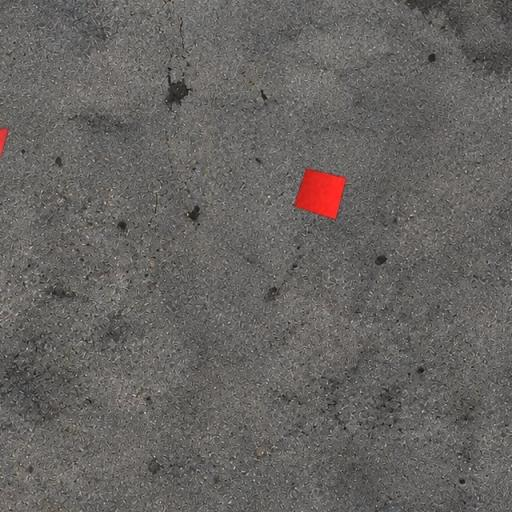RED_SQUARE: (293, 168, 347, 221)
